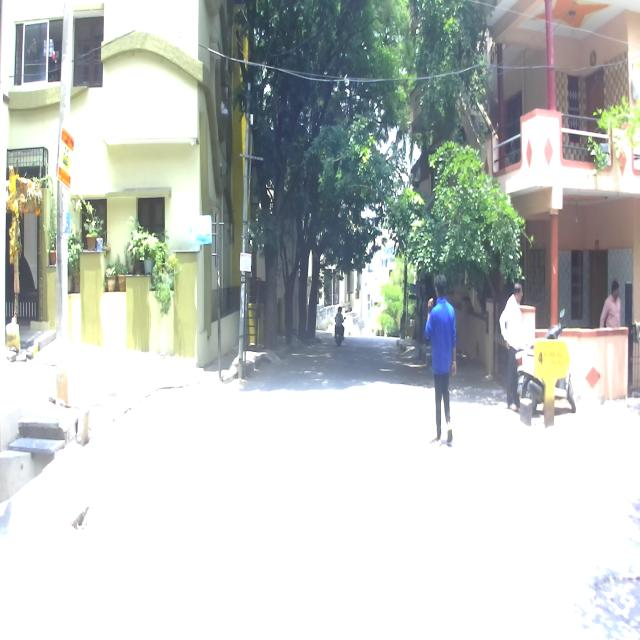person ahead at: (422, 268, 462, 450)
